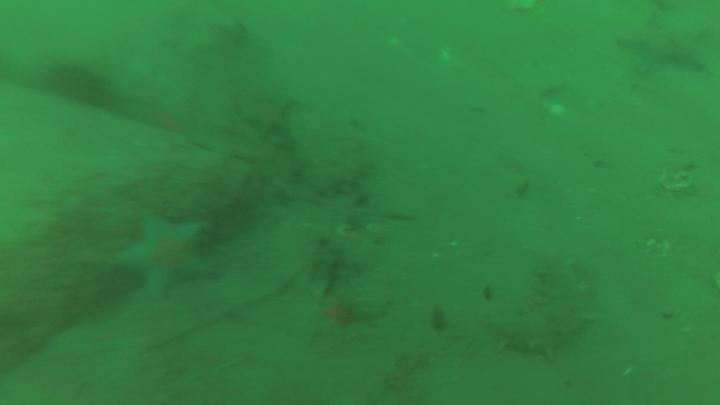echinus: (54, 63, 111, 107)
holothurian: (480, 254, 594, 362), (303, 147, 374, 198)
starfish: (117, 214, 213, 296), (621, 12, 705, 76), (305, 288, 357, 345), (247, 95, 289, 140)
